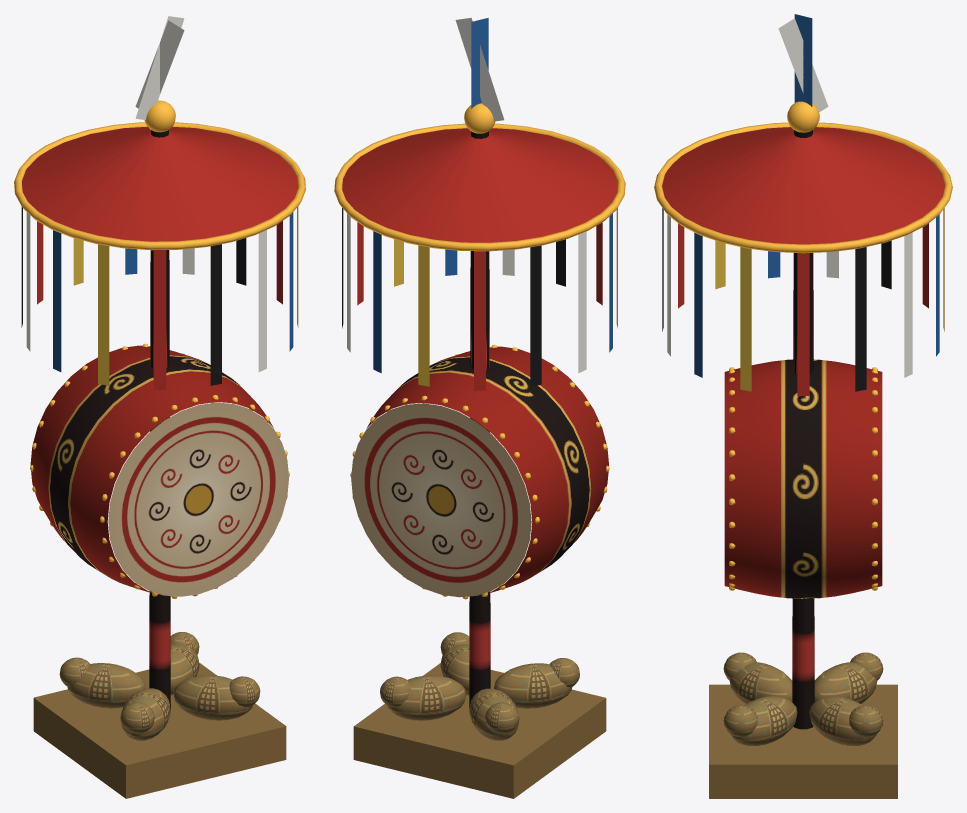
The model's file is jiangu.glb.
3 renders of one model, left to right at view 1: azimuth 30°, elevation 25°; view 2: azimuth 150°, elevation 25°; view 3: azimuth 270°, elevation 25°, orthographic. The views are drawn at different scales.
Visible parts, largest first — view 1: Jiangu; view 2: Jiangu; view 3: Jiangu.
Part boxes in pixels (x1,y1,x2,y2): Jiangu: [14, 16, 305, 798]; Jiangu: [334, 17, 625, 798]; Jiangu: [654, 14, 952, 798].
Size of the model in its own units: 2.37 by 6.5 by 2.37.
Materials: 12 (4 with a texture image).
